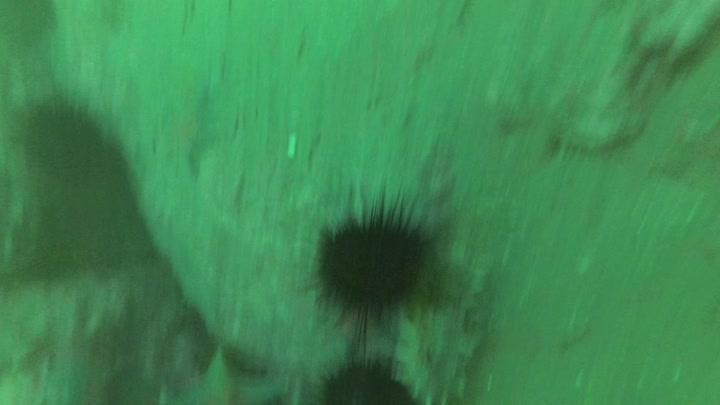urchin: (292, 187, 433, 330), (300, 349, 430, 405)
